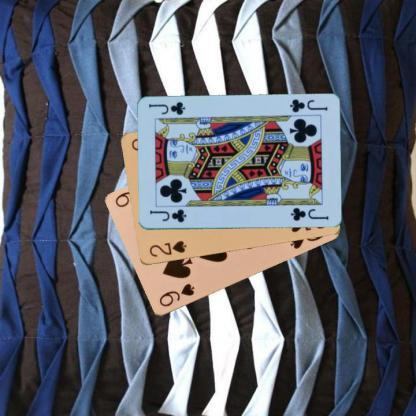2s: (146, 238, 188, 259)
9s: (156, 280, 196, 308)
Jc: (146, 206, 188, 224), (286, 96, 328, 114)
